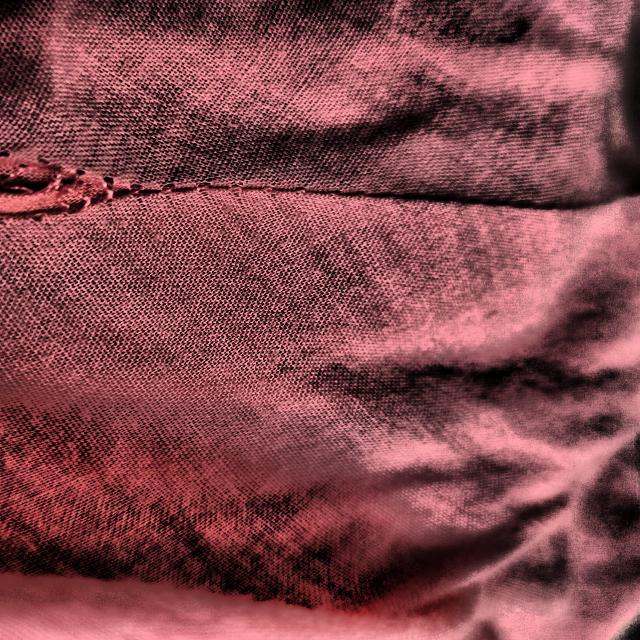Stitch: (0, 123, 254, 273)
